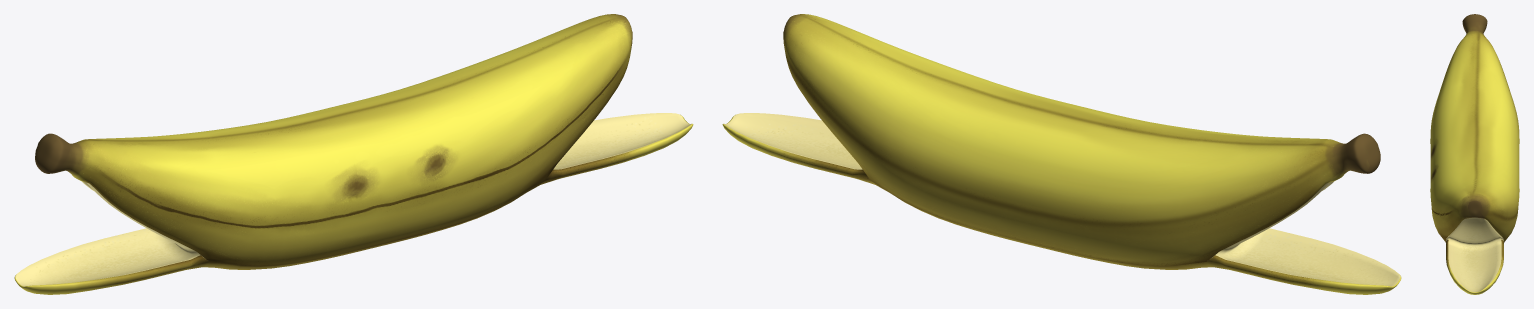
File: banan.fbx
3 renders of one model, left to right at view 1: azimuth 30°, elevation 25°; view 2: azimuth 150°, elevation 25°; view 3: azimuth 270°, elevation 25°, orthographic. The views are drawn at different scales.
Parts seen in each view (by area): view 1: Banan; view 2: Banan; view 3: Banan.
Part boxes in pixels (x1=…): Banan: x1=14, y1=14, x2=693, y2=294; Banan: x1=722, y1=14, x2=1401, y2=294; Banan: x1=1430, y1=14, x2=1519, y2=294.
Bounding box in the file's own units: 286 × 73.09 × 53.35.
Materials: 1 (1 with a texture image).
